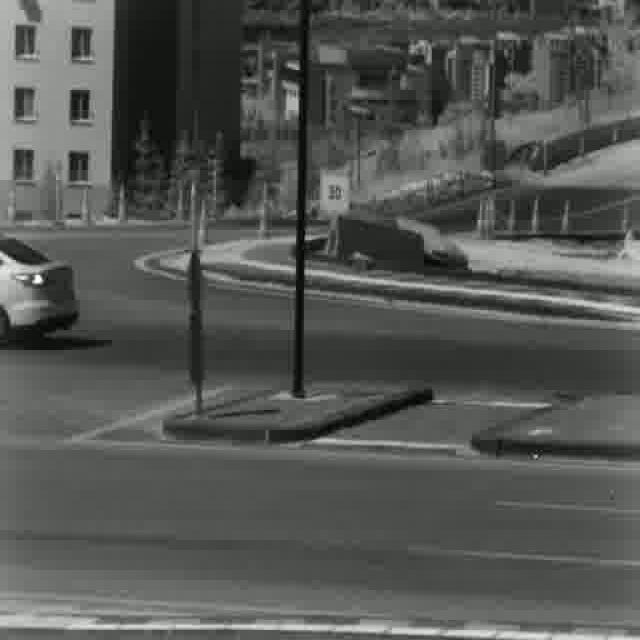Car: (0, 232, 80, 342)
